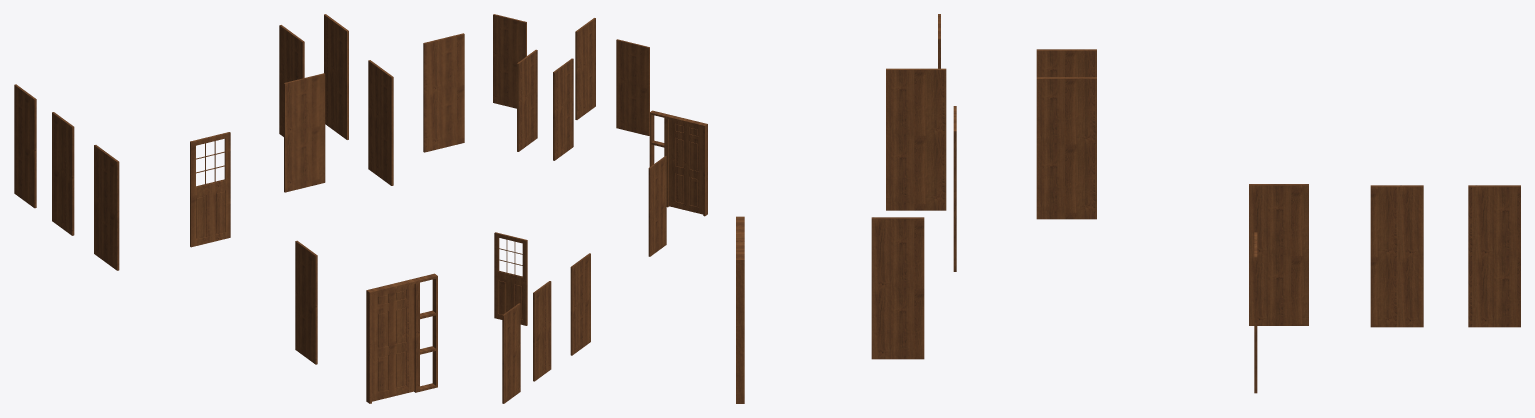
File: arq_puertas.FBX
3 views of the same model, side by side, from view 1: azimuth 30°, elevation 25°; view 2: azimuth 150°, elevation 25°; view 3: azimuth 270°, elevation 25° (orthographic). The views are drawn at different scales.
Visible parts, largest first — view 1: arq_puertas; view 2: arq_puertas; view 3: arq_puertas.
Boxes of the visible parts, x1=… form: arq_puertas: x1=14, y1=14, x2=464, y2=403; arq_puertas: x1=493, y1=14, x2=707, y2=403; arq_puertas: x1=736, y1=14, x2=1520, y2=403.
Size of the model in its own units: 4.63 by 5.02 by 10.42.
1 material, 1 textured.
